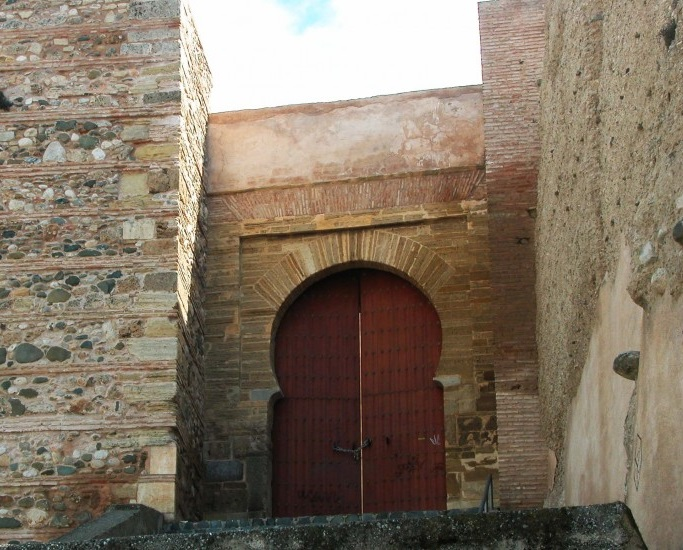arco-herradura: (257, 248, 458, 405)
